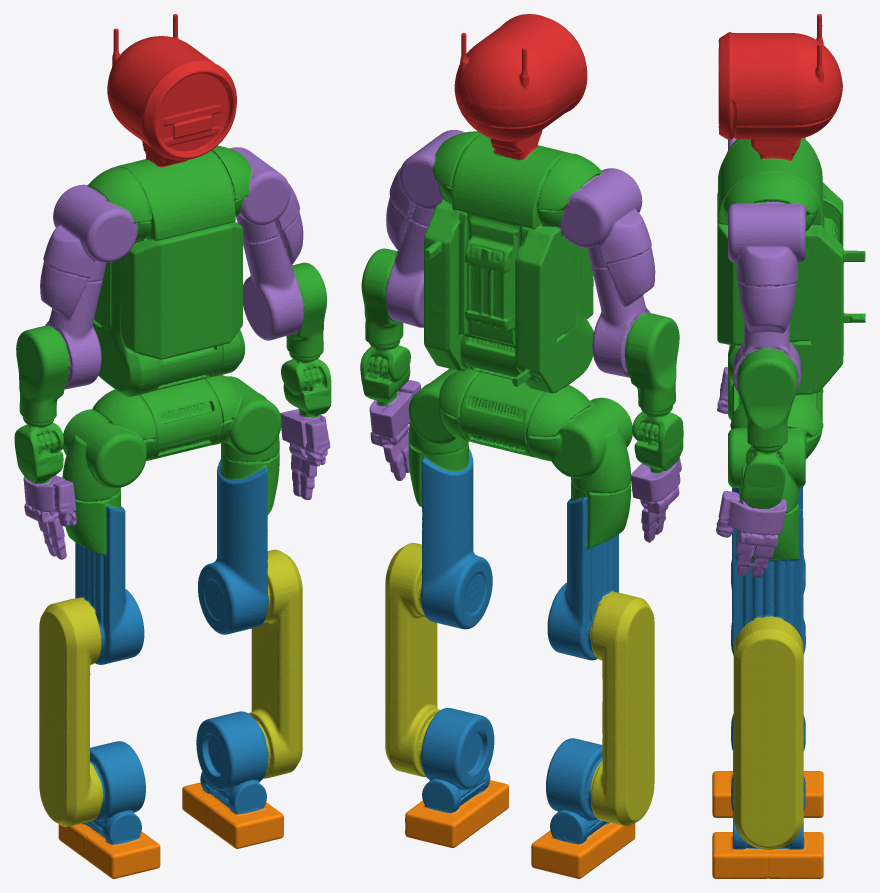
File: split_print_robot.glb
3 views of the same model, side by side, from view 1: azimuth 30°, elevation 25°; view 2: azimuth 150°, elevation 25°; view 3: azimuth 270°, elevation 25° (orthographic). The views are drawn at different scales.
Visible parts, largest first — view 1: model_part3, model_part9, model_part4, model_part8, model_part2, model_part16, model_part5, model_part15, model_part0, model_part11, model_part14, model_part6 (+5 smaller); view 2: model_part3, model_part9, model_part4, model_part8, model_part2, model_part16, model_part15, model_part0, model_part5, model_part11, model_part14, model_part6 (+5 smaller); view 3: model_part3, model_part16, model_part4, model_part5, model_part6, model_part9, model_part15, model_part13, model_part7, model_part10, model_part14, model_part1.
Boxes of the visible parts, x1=… form: model_part3: x1=88, y1=145, x2=251, y2=396; model_part9: x1=62, y1=375, x2=281, y2=555; model_part4: x1=107, y1=14, x2=236, y2=167; model_part8: x1=39, y1=597, x2=103, y2=826; model_part2: x1=40, y1=184, x2=137, y2=389; model_part16: x1=248, y1=549, x2=302, y2=778; model_part5: x1=230, y1=147, x2=303, y2=340; model_part15: x1=198, y1=459, x2=268, y2=634; model_part0: x1=14, y1=325, x2=69, y2=483; model_part11: x1=75, y1=505, x2=144, y2=664; model_part14: x1=196, y1=711, x2=268, y2=814; model_part6: x1=281, y1=262, x2=331, y2=417; model_part3: x1=424, y1=131, x2=602, y2=393; model_part9: x1=408, y1=368, x2=632, y2=548; model_part4: x1=454, y1=14, x2=587, y2=159; model_part8: x1=590, y1=591, x2=654, y2=826; model_part2: x1=560, y1=168, x2=655, y2=377; model_part16: x1=385, y1=542, x2=440, y2=776; model_part15: x1=420, y1=448, x2=492, y2=629; model_part0: x1=625, y1=312, x2=683, y2=473; model_part5: x1=386, y1=130, x2=464, y2=327; model_part11: x1=547, y1=497, x2=618, y2=660; model_part14: x1=420, y1=708, x2=494, y2=812; model_part6: x1=360, y1=248, x2=410, y2=406; model_part3: x1=717, y1=138, x2=865, y2=395; model_part16: x1=733, y1=616, x2=803, y2=849; model_part4: x1=718, y1=14, x2=842, y2=160; model_part5: x1=728, y1=202, x2=806, y2=392; model_part6: x1=737, y1=348, x2=797, y2=508; model_part9: x1=728, y1=369, x2=823, y2=560; model_part15: x1=731, y1=508, x2=805, y2=655; model_part13: x1=712, y1=832, x2=823, y2=878; model_part7: x1=716, y1=491, x2=786, y2=577; model_part10: x1=712, y1=771, x2=823, y2=817; model_part14: x1=731, y1=774, x2=805, y2=849; model_part1: x1=717, y1=367, x2=727, y2=413.
Size of the model in its own units: 0.0468 by 0.12 by 0.0206.
